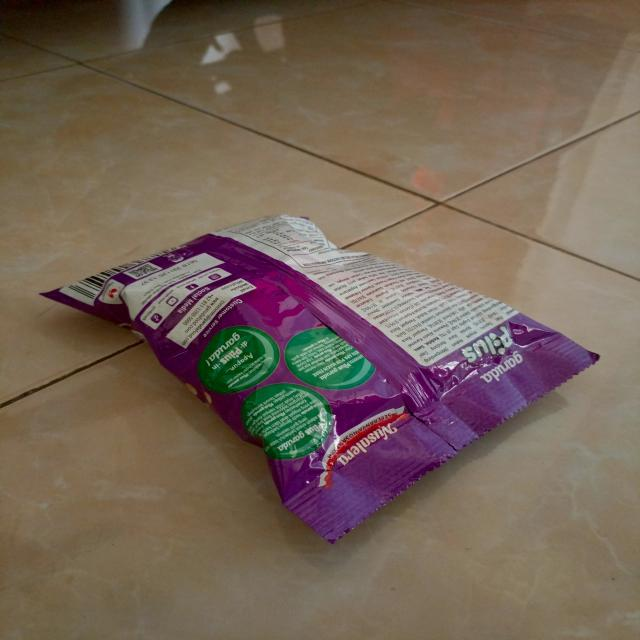pilus-rendang: (39, 212, 602, 544)
